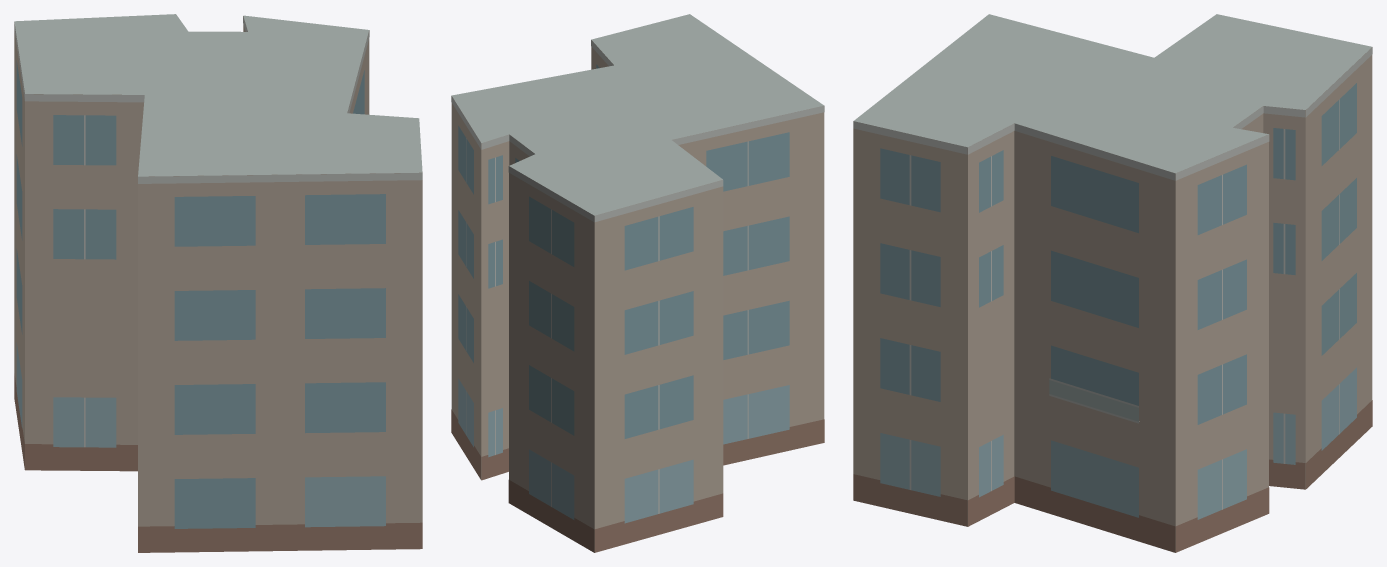
File: survey-upis-32498164.glb
3 renders of one model, left to right at view 1: azimuth 30°, elevation 25°; view 2: azimuth 150°, elevation 25°; view 3: azimuth 270°, elevation 25°, orthographic. The views are drawn at different scales.
Parts seen in each view (by area): view 1: survey-upis-32498164.tmp; view 2: survey-upis-32498164.tmp; view 3: survey-upis-32498164.tmp.
Part boxes in pixels (x1,y1,x2,y2): survey-upis-32498164.tmp: (14, 14, 422, 552); survey-upis-32498164.tmp: (451, 14, 824, 552); survey-upis-32498164.tmp: (853, 14, 1372, 552).
Bounding box in the file's own units: 11.17 × 12.39 × 15.37.
